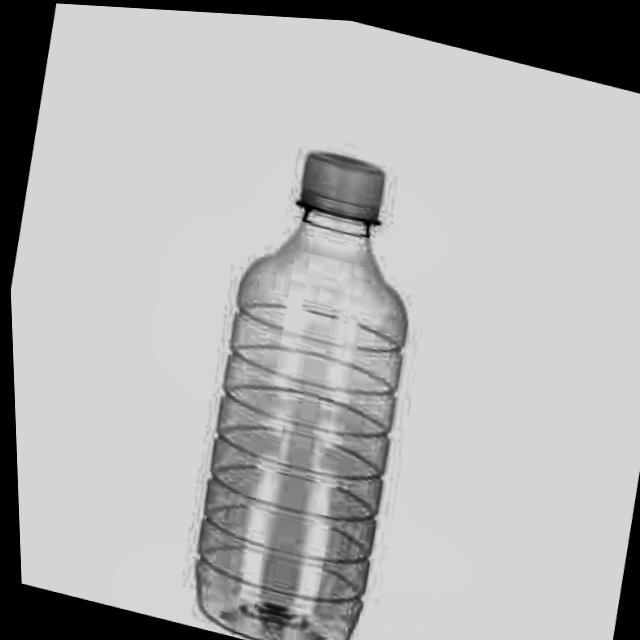Bottles: (130, 104, 470, 640)
